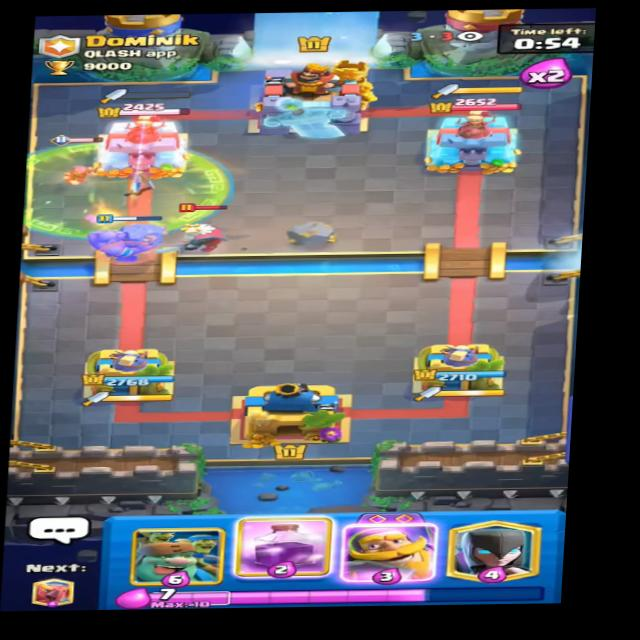evo-wizard: (47, 135, 108, 192)
royal-ghost: (170, 205, 243, 253)
